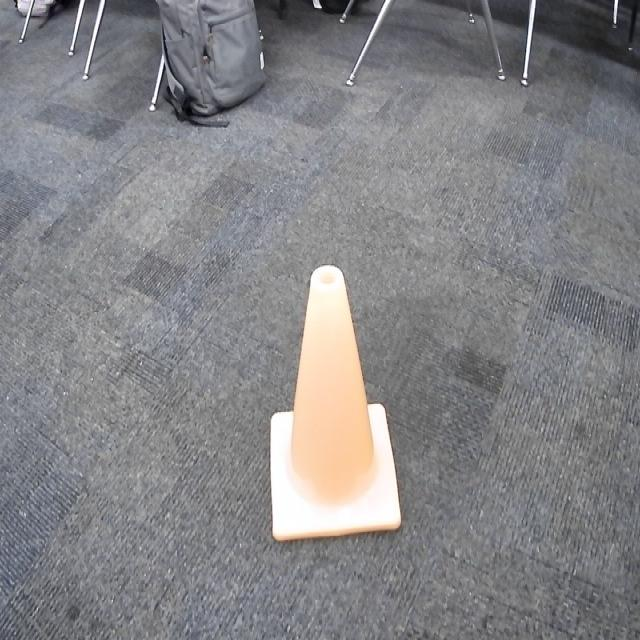cone: (260, 259, 410, 538)
